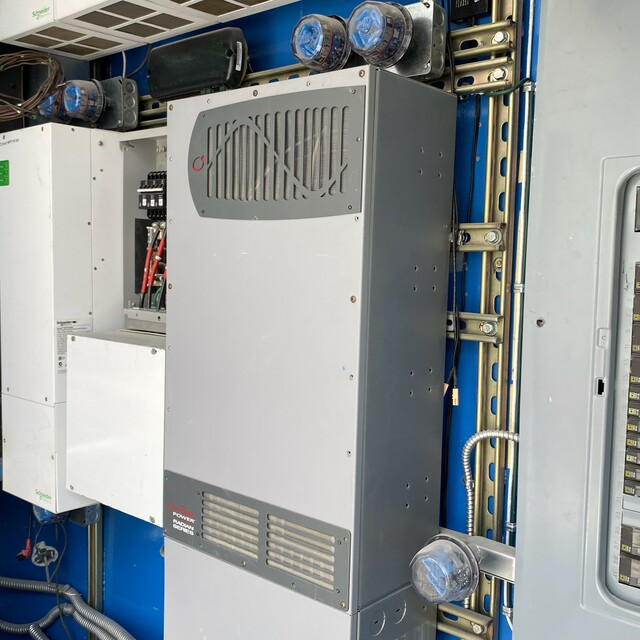inverter: (154, 69, 452, 638)
